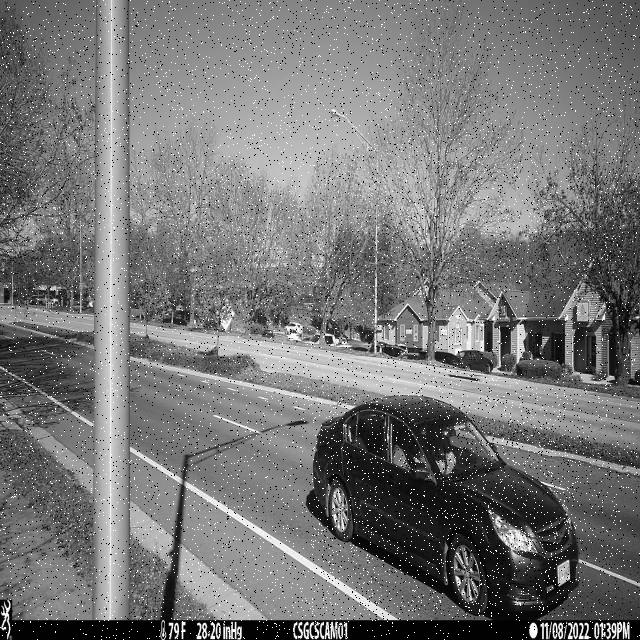Sedan: (312, 395, 580, 616)
